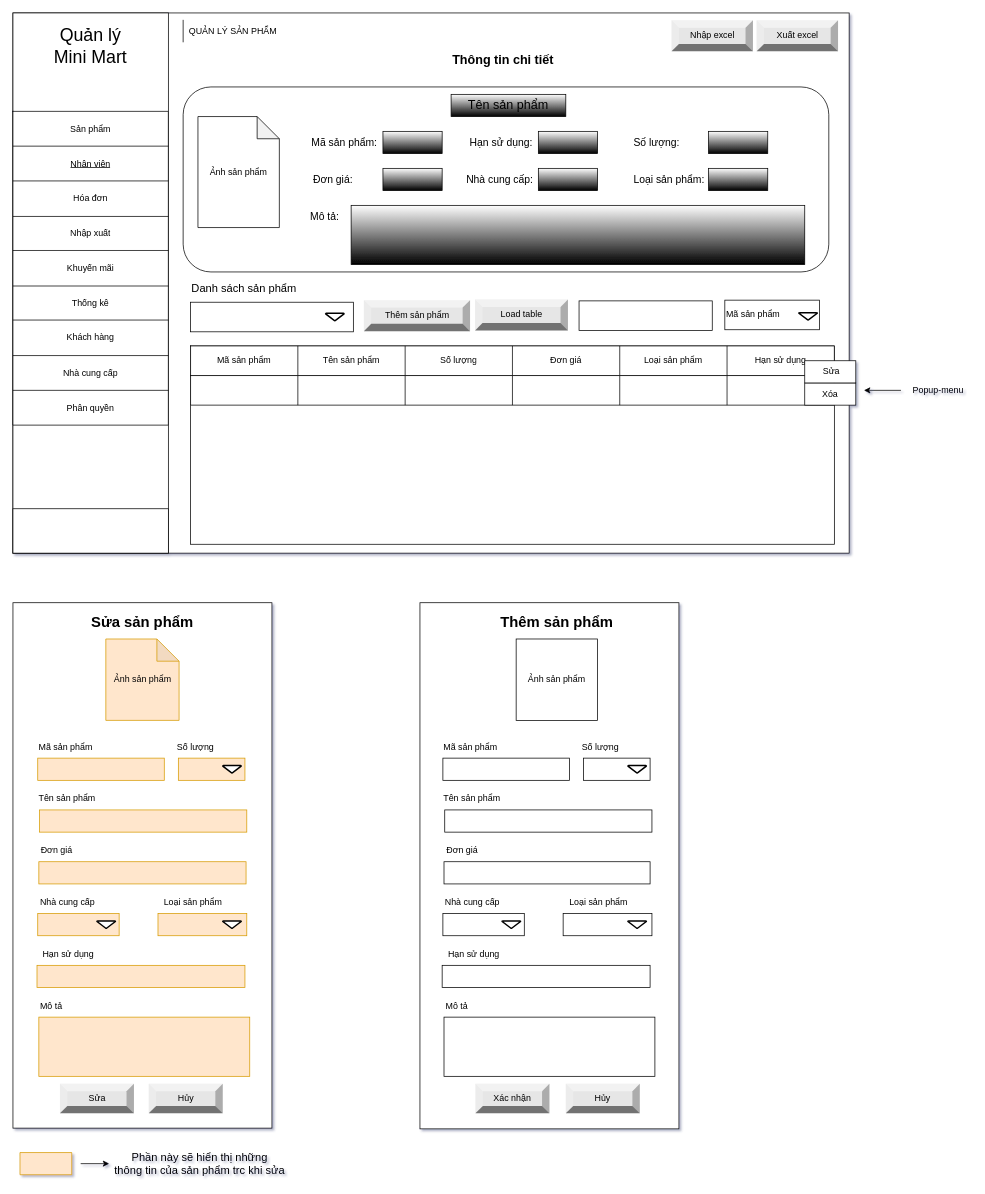
The diagram is 985 pixels wide and 1194 high, and some of its shapes have lost their labels. Each missing label, with the centre of its shape:
Tìm kiếm: pixel 645 315
Tất cả: pixel 271 316
Đăng xuất: pixel 90 530
